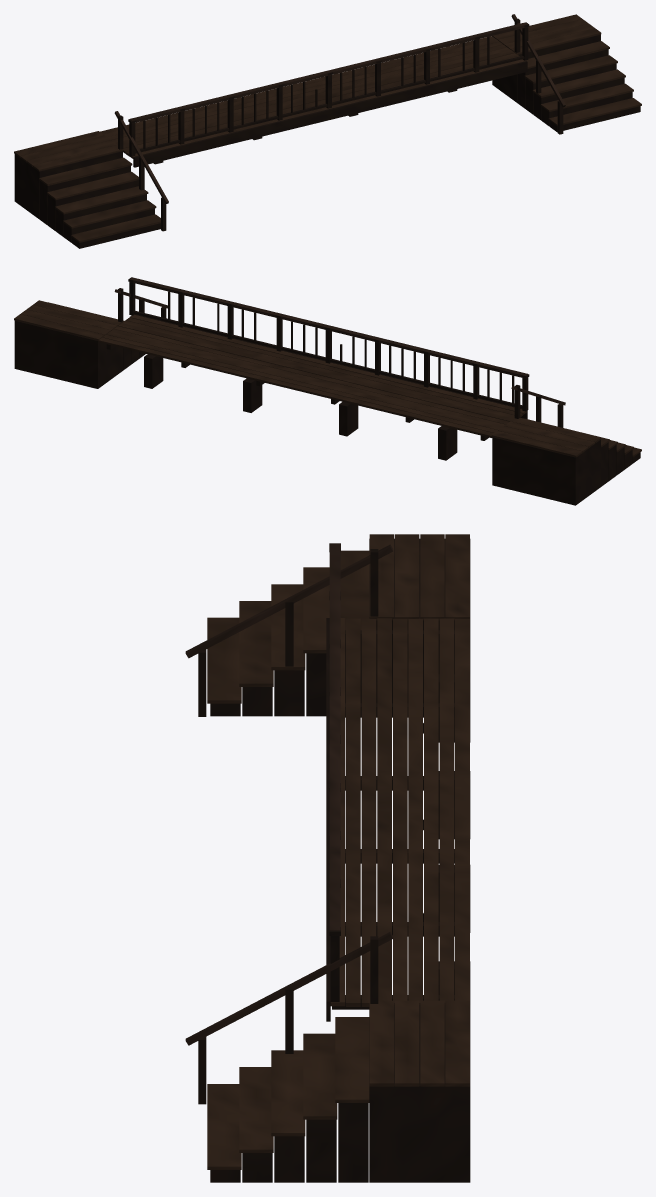
Rendered from catwalk.glb.
3 views of the same model, one above another, from view 1: azimuth 30°, elevation 25°; view 2: azimuth 150°, elevation 25°; view 3: azimuth 270°, elevation 25° (orthographic). The views are drawn at different scales.
Visible parts, largest first — view 1: catwalk; view 2: catwalk; view 3: catwalk.
Part boxes in pixels (left/top/right/bottom): catwalk: left=14, top=14, right=641, bottom=248; catwalk: left=14, top=277, right=641, bottom=505; catwalk: left=185, top=534, right=470, bottom=1182.
Size of the model in its own units: 17.6 by 2.57 by 3.86.
